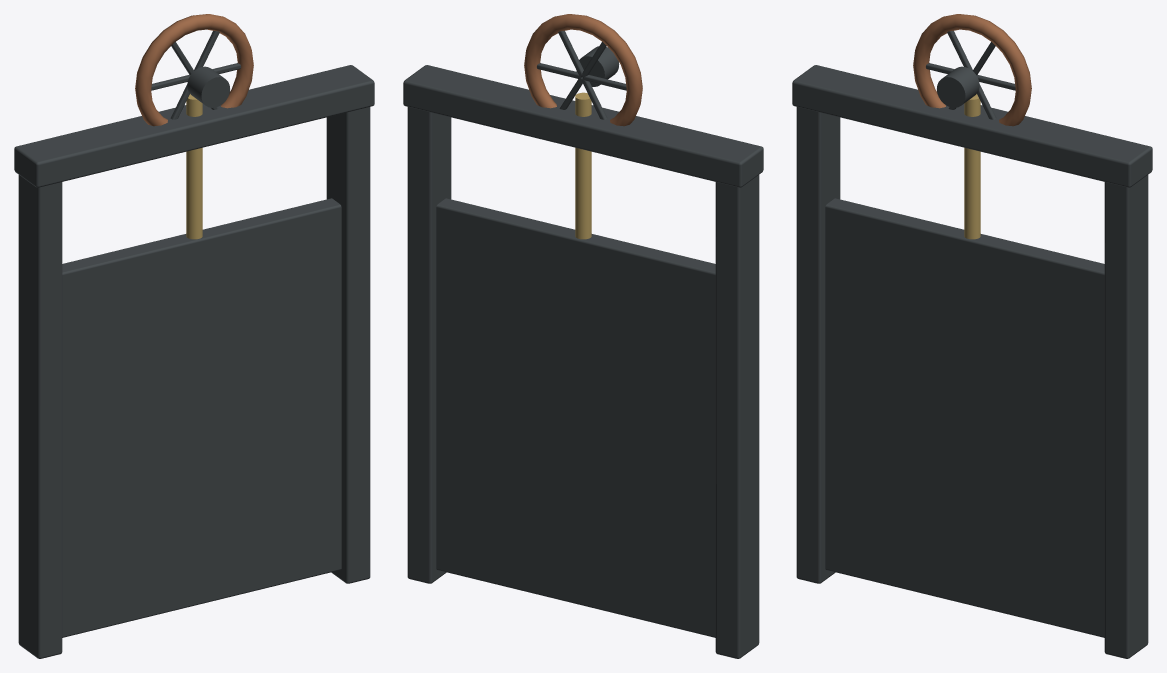
The model's file is undercity-sewers-and-thieves-den-penstock-gate-db7da329__27196.glb.
3 renders of one model, left to right at view 1: azimuth 30°, elevation 25°; view 2: azimuth 150°, elevation 25°; view 3: azimuth 330°, elevation 25°, orthographic.
Visible parts, largest first — view 1: gate, penstock-gate; view 2: gate, penstock-gate; view 3: gate, penstock-gate.
Part boxes in pixels (x1,y1,x2,y2): gate: [62, 198, 341, 637]; penstock-gate: [14, 14, 374, 658]; gate: [436, 198, 715, 637]; penstock-gate: [403, 14, 763, 658]; gate: [825, 198, 1104, 637]; penstock-gate: [792, 14, 1152, 658].
Size of the model in its own units: 1.65 by 2.77 by 0.2798.
